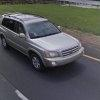Car: (1, 4, 86, 74)
